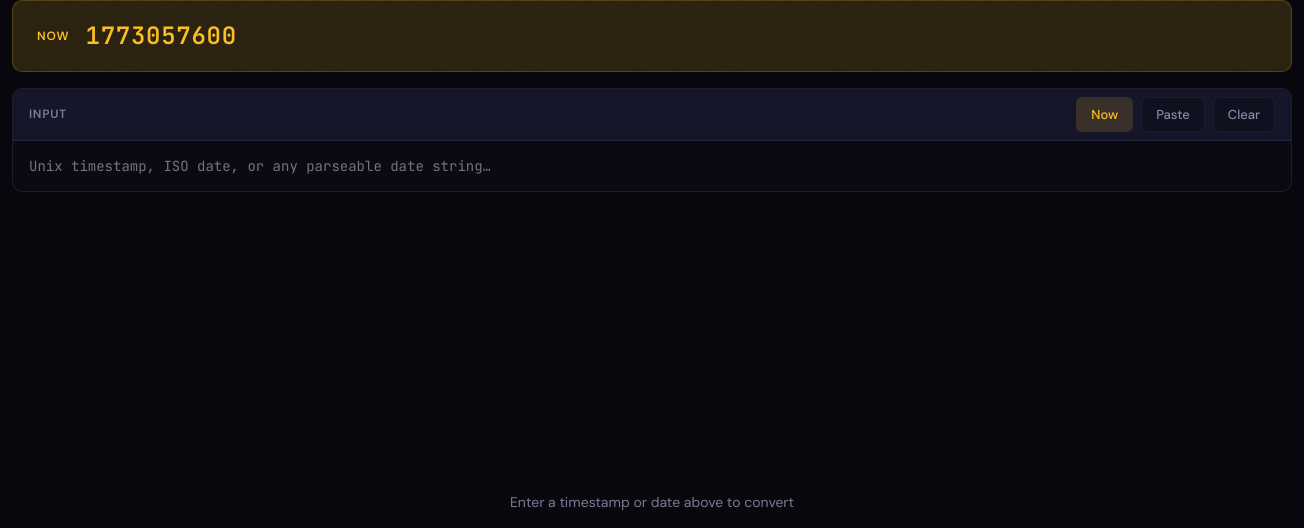
TimestampConverter › shows error for invalid input
In the field named "timestamp or date input": (652, 166) [13,141,1291,191], type "not-a-date"
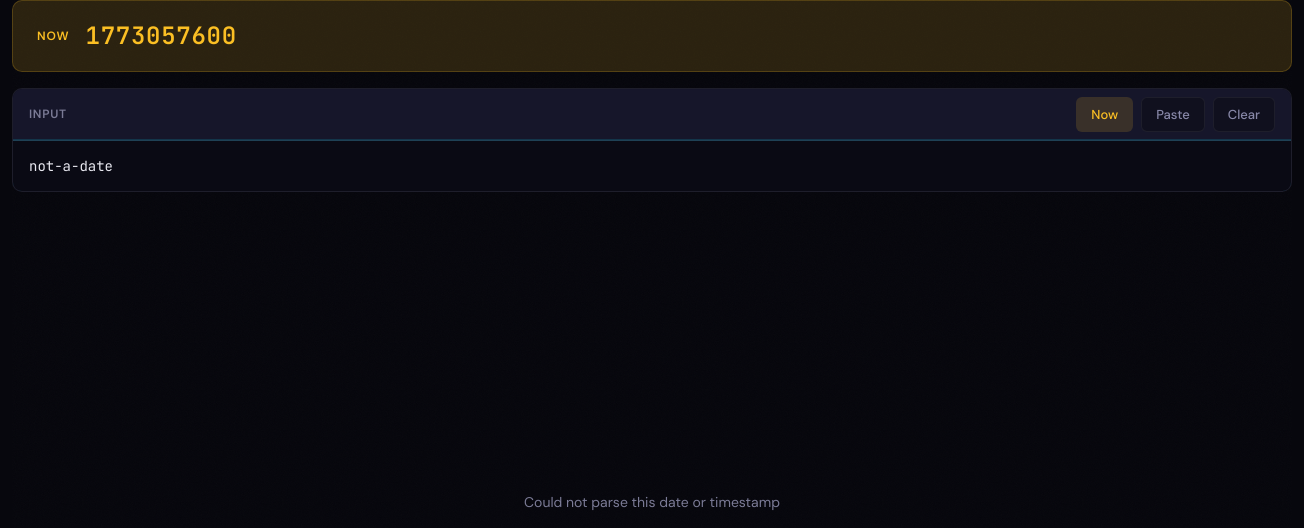
Result: the text "Could not parse this date or timestamp" is shown at [524,493,780,511]
